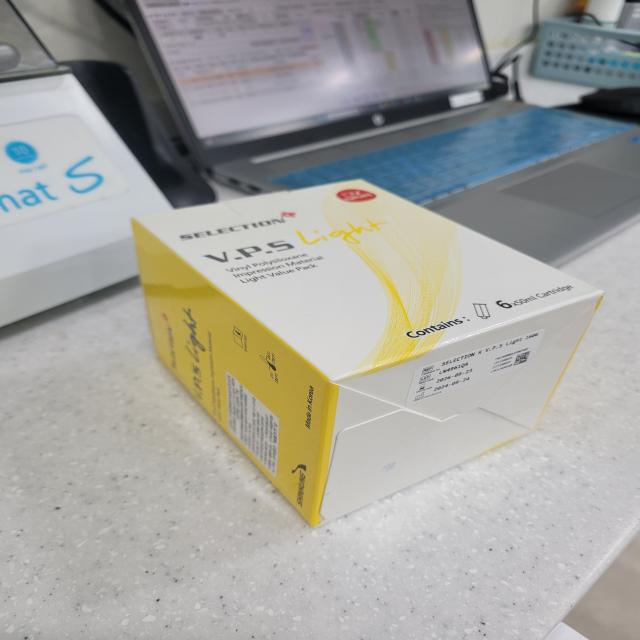impression: (105, 168, 610, 540)
